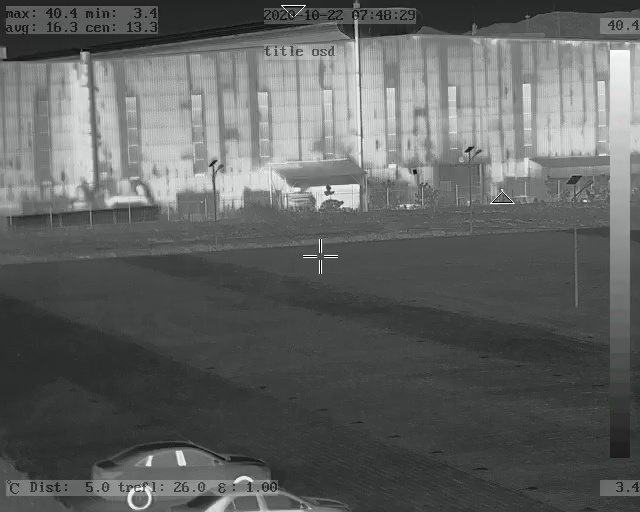vehicle: (90, 435, 273, 508), (176, 482, 351, 512)
